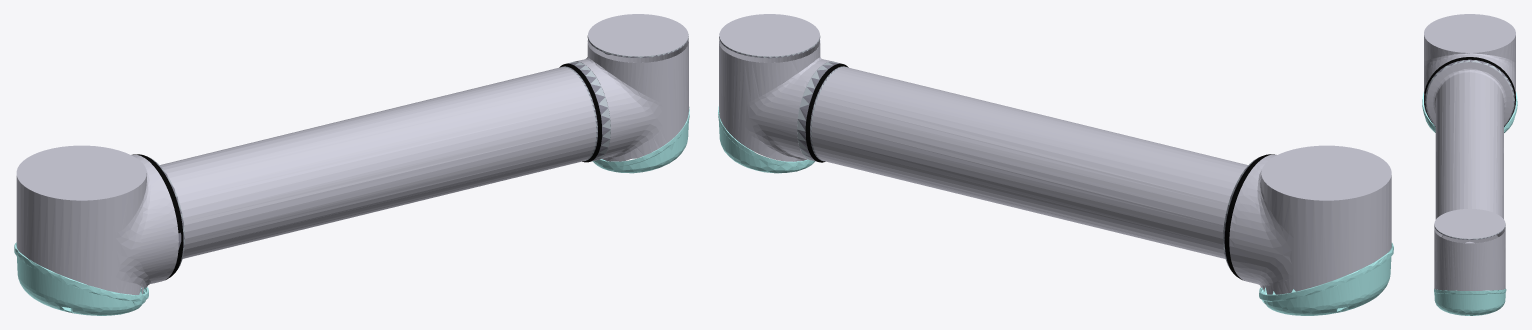
Rendered from LinearUR10Link4.dae.
3 renders of one model, left to right at view 1: azimuth 30°, elevation 25°; view 2: azimuth 150°, elevation 25°; view 3: azimuth 270°, elevation 25°, orthographic. The views are drawn at different scales.
Visible parts, largest first — view 1: LinearUR10Link4; view 2: LinearUR10Link4; view 3: LinearUR10Link4.
Part boxes in pixels (bbox=[...]): LinearUR10Link4: bbox=[14, 14, 689, 315]; LinearUR10Link4: bbox=[718, 14, 1393, 315]; LinearUR10Link4: bbox=[1422, 14, 1517, 315].
Size of the model in its own units: 0.6776 by 0.1199 by 0.1298.
